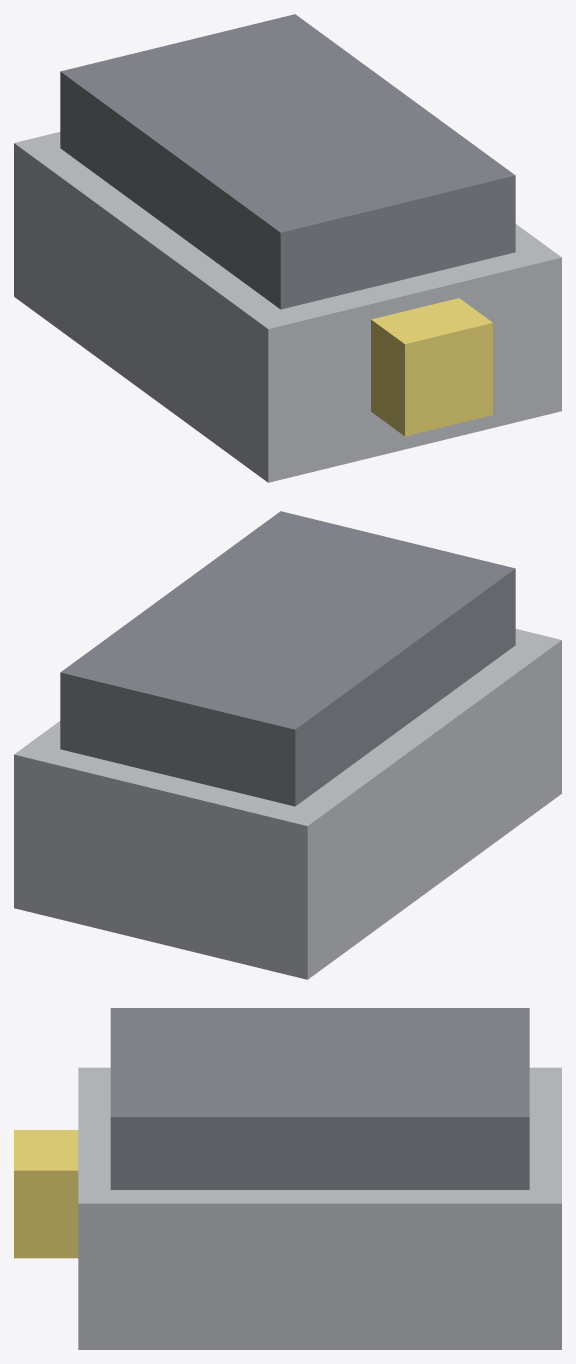
The model's file is engine.glb.
3 views of the same model, one above another, from view 1: azimuth 30°, elevation 25°; view 2: azimuth 150°, elevation 25°; view 3: azimuth 270°, elevation 25° (orthographic). The views are drawn at different scales.
Parts seen in each view (by area): view 1: Head, Block, Pulley; view 2: Block, Head; view 3: Block, Head, Pulley.
Part boxes in pixels (x1,y1,x2,y2): Head: [60, 14, 515, 309]; Block: [14, 132, 561, 482]; Pulley: [371, 298, 492, 436]; Block: [14, 629, 561, 979]; Head: [60, 511, 515, 806]; Block: [78, 1067, 561, 1349]; Head: [110, 1008, 529, 1189]; Pulley: [14, 1130, 78, 1258].
Bounding box in the file's own units: 2 × 1.5 × 3.4.
